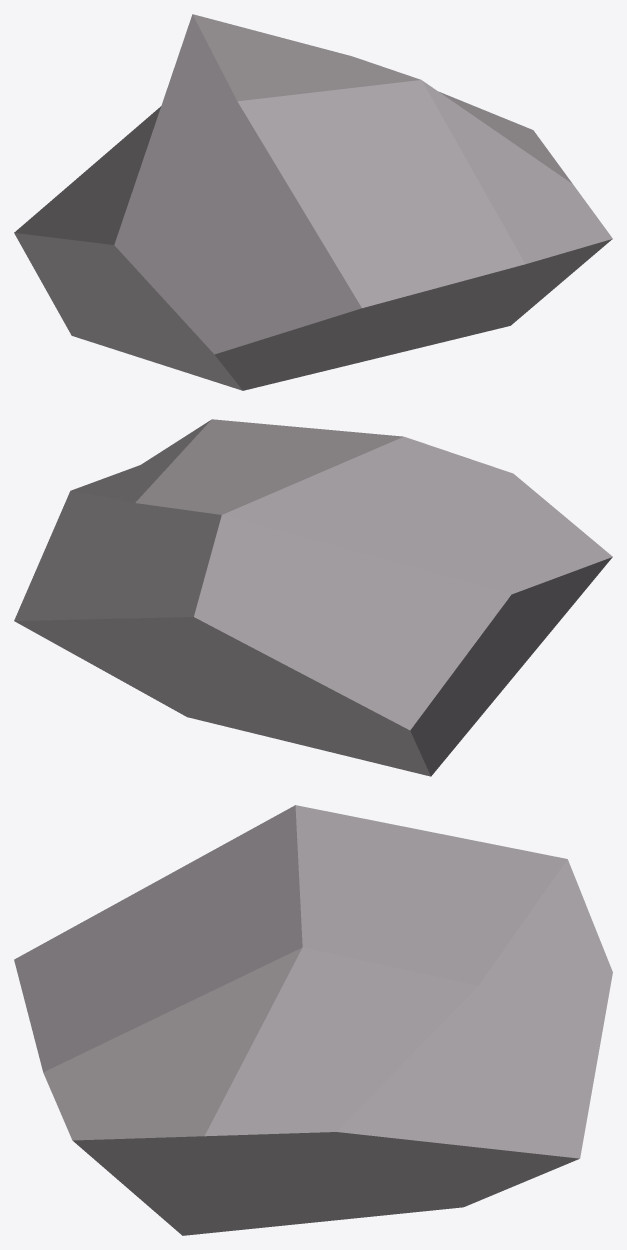
Rendered from rock2.gltf.
3 views of the same model, one above another, from view 1: azimuth 30°, elevation 25°; view 2: azimuth 150°, elevation 25°; view 3: azimuth 270°, elevation 25° (orthographic). The views are drawn at different scales.
Parts seen in each view (by area): view 1: Cube; view 2: Cube; view 3: Cube.
Boxes of the visible parts, x1=… form: Cube: x1=14, y1=14, x2=612, y2=390; Cube: x1=14, y1=419, x2=612, y2=776; Cube: x1=14, y1=805, x2=612, y2=1235.
Size of what is drawn, in the model's own units: 4.17 by 2.44 by 4.18.
Materials: 1 (1 with a texture image).
